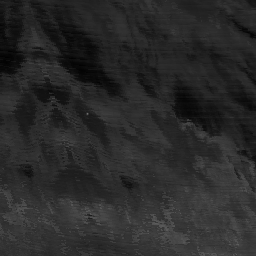Target: (85, 111, 88, 116)
